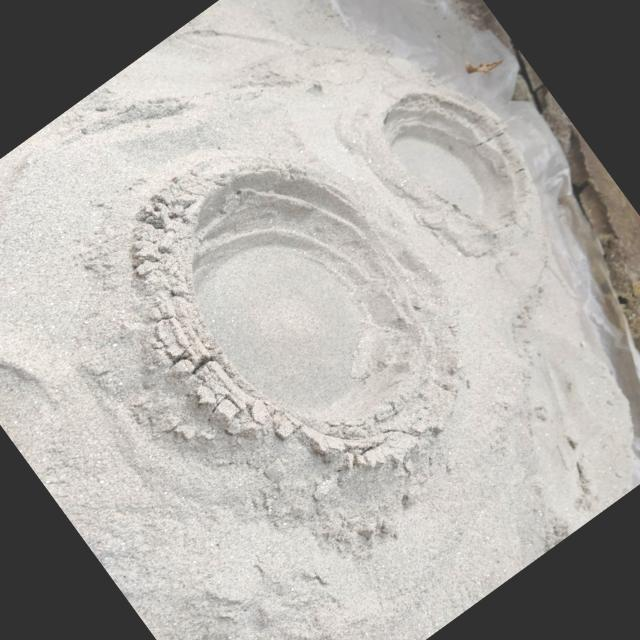C20: (380, 92, 528, 240)
